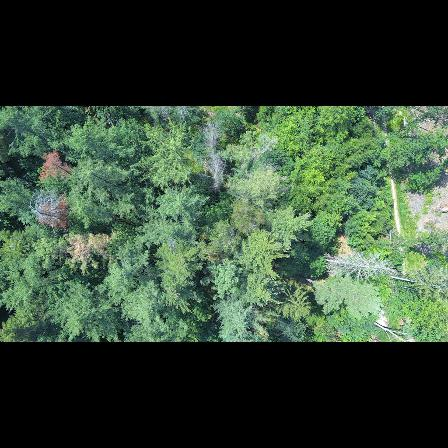Dead: (318, 248, 390, 281), (199, 116, 229, 193), (26, 185, 70, 237)
